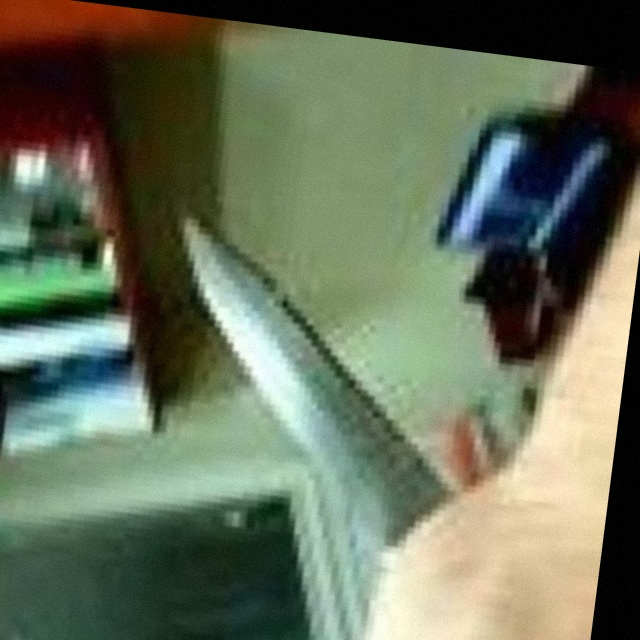Sharp-Object: (149, 223, 485, 555)
